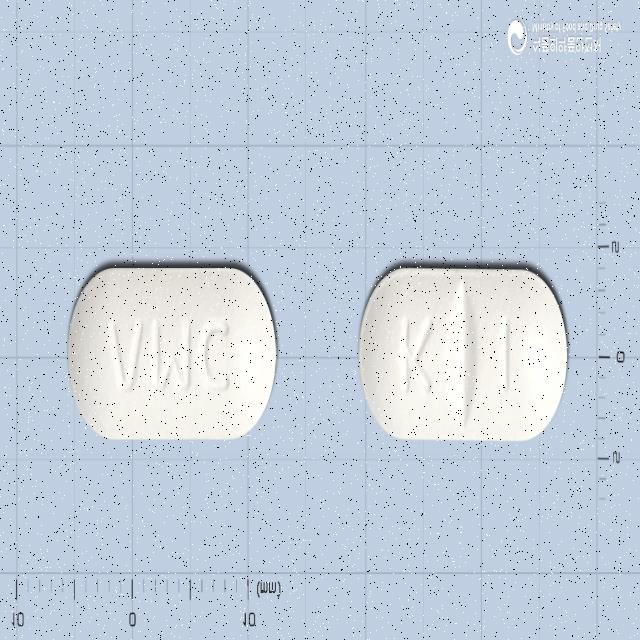Amocla Duo: (66, 260, 278, 443), (358, 264, 568, 441)
